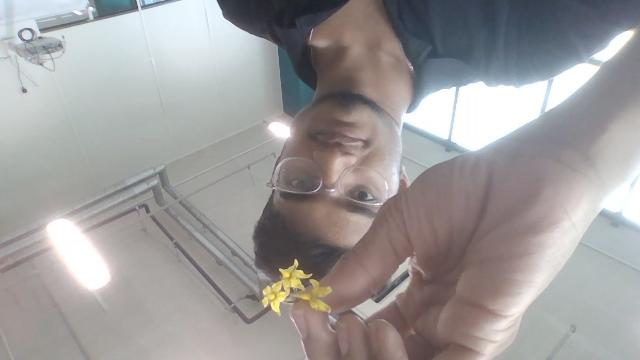Anthesis: (293, 278, 335, 314), (276, 260, 313, 295), (260, 279, 291, 316)
